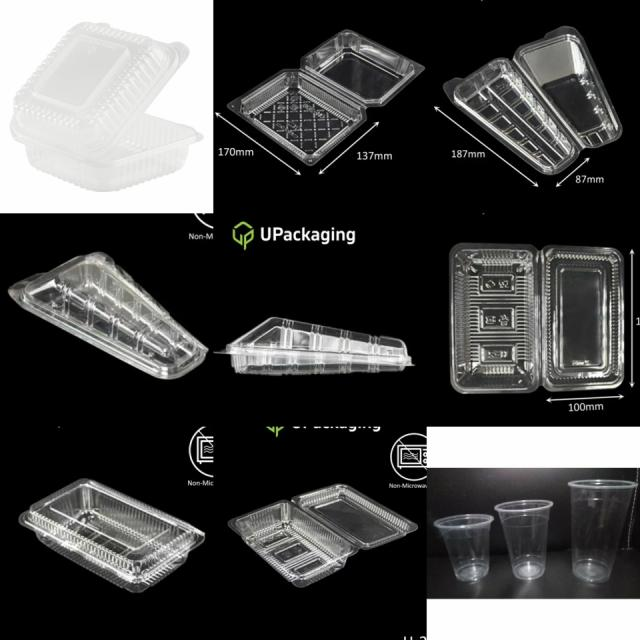Single-Use-Plastic: (10, 22, 201, 191), (228, 30, 424, 166), (444, 26, 622, 175), (450, 245, 624, 393), (9, 252, 208, 378), (19, 479, 205, 592), (229, 484, 418, 588), (221, 318, 412, 374), (569, 480, 638, 582), (495, 500, 552, 580), (434, 514, 494, 581)
